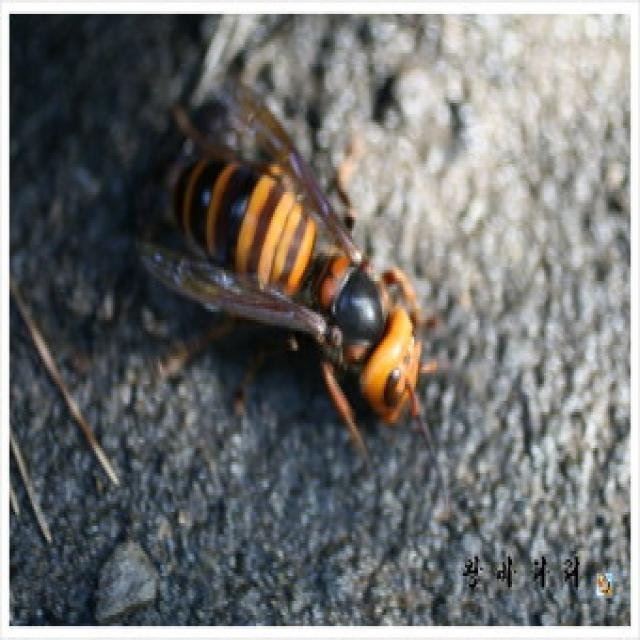Wasp: (136, 93, 443, 463)
